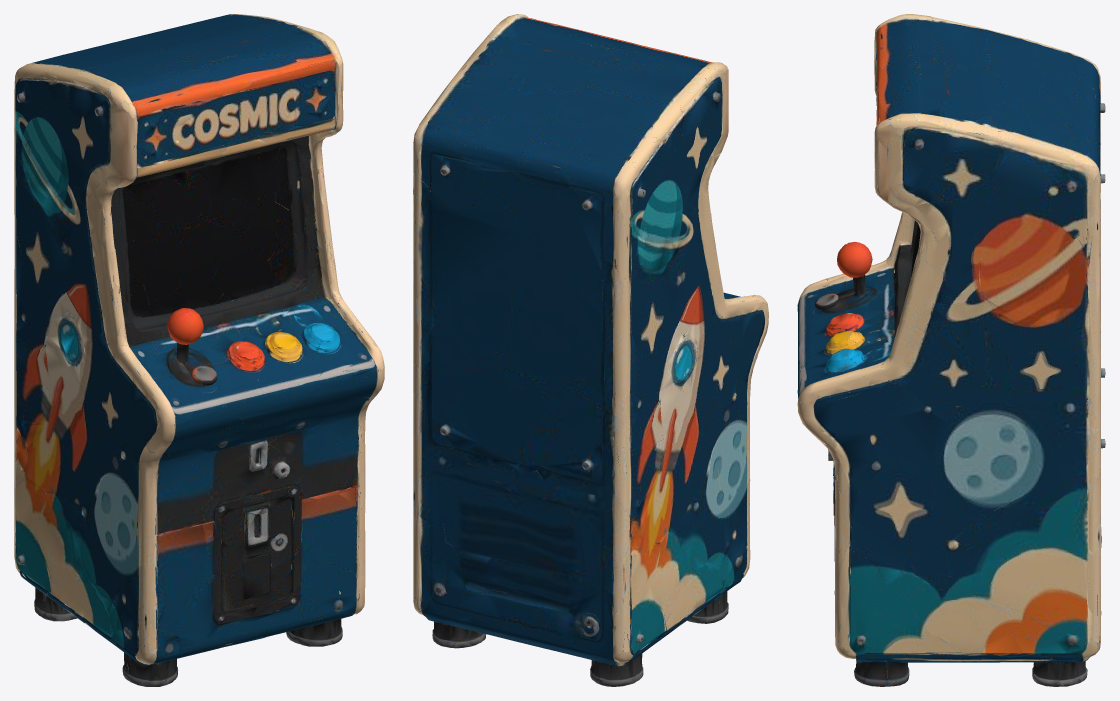
Rendered from arcade_cosmic.glb.
3 views of the same model, side by side, from view 1: azimuth 30°, elevation 25°; view 2: azimuth 150°, elevation 25°; view 3: azimuth 270°, elevation 25° (orthographic). The views are drawn at different scales.
Visible parts, largest first — view 1: Mesh_0; view 2: Mesh_0; view 3: Mesh_0.
Boxes of the visible parts, left/top/right/bottom form: Mesh_0: left=14, top=14, right=384, bottom=686; Mesh_0: left=413, top=14, right=768, bottom=686; Mesh_0: left=797, top=14, right=1105, bottom=686.
Bounding box in the file's own units: 0.8661 × 2.05 × 1.
Materials: 1 (1 with a texture image).
